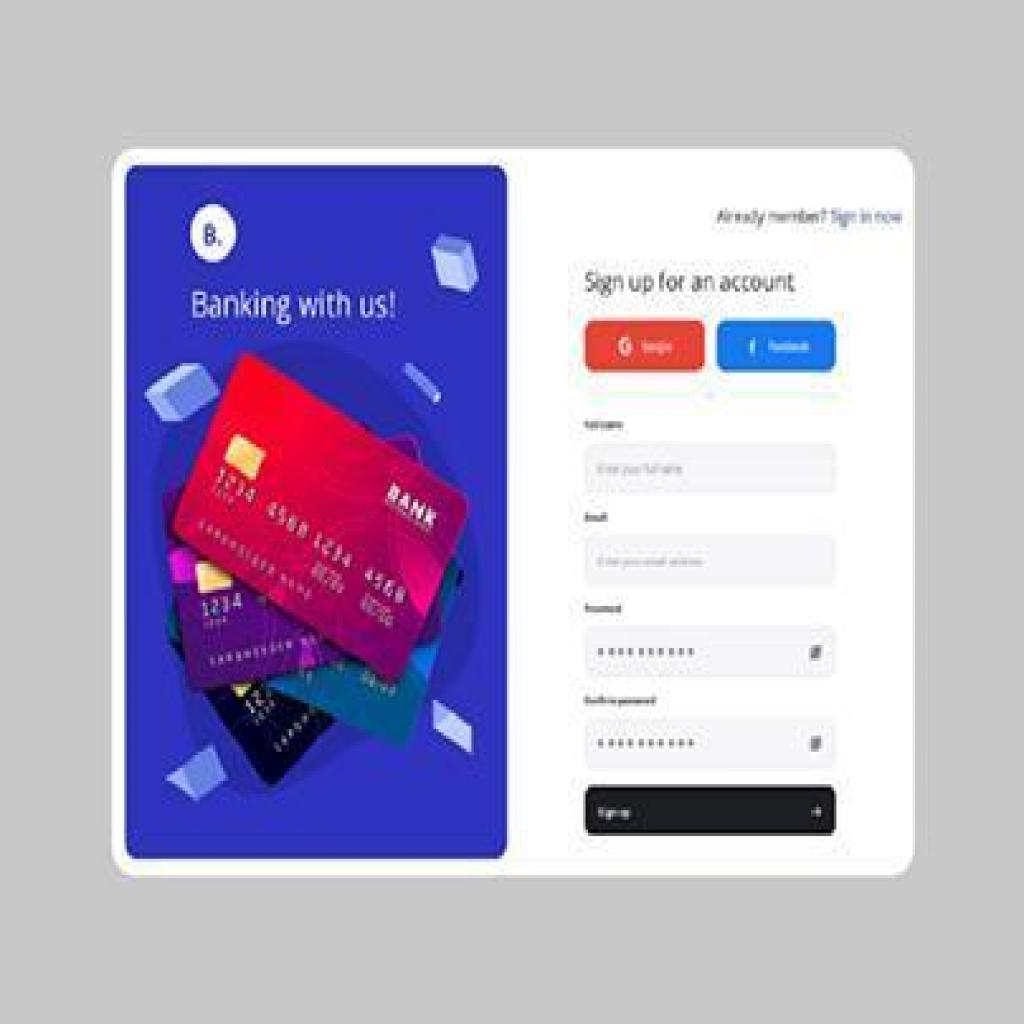button: (583, 784, 836, 839), (718, 317, 836, 376), (583, 318, 705, 372)
input: (583, 531, 841, 590), (585, 441, 839, 496), (585, 626, 839, 680), (586, 716, 836, 768)
label: (580, 259, 804, 298), (580, 687, 662, 713), (581, 593, 631, 619), (578, 502, 618, 528), (576, 418, 628, 431)
